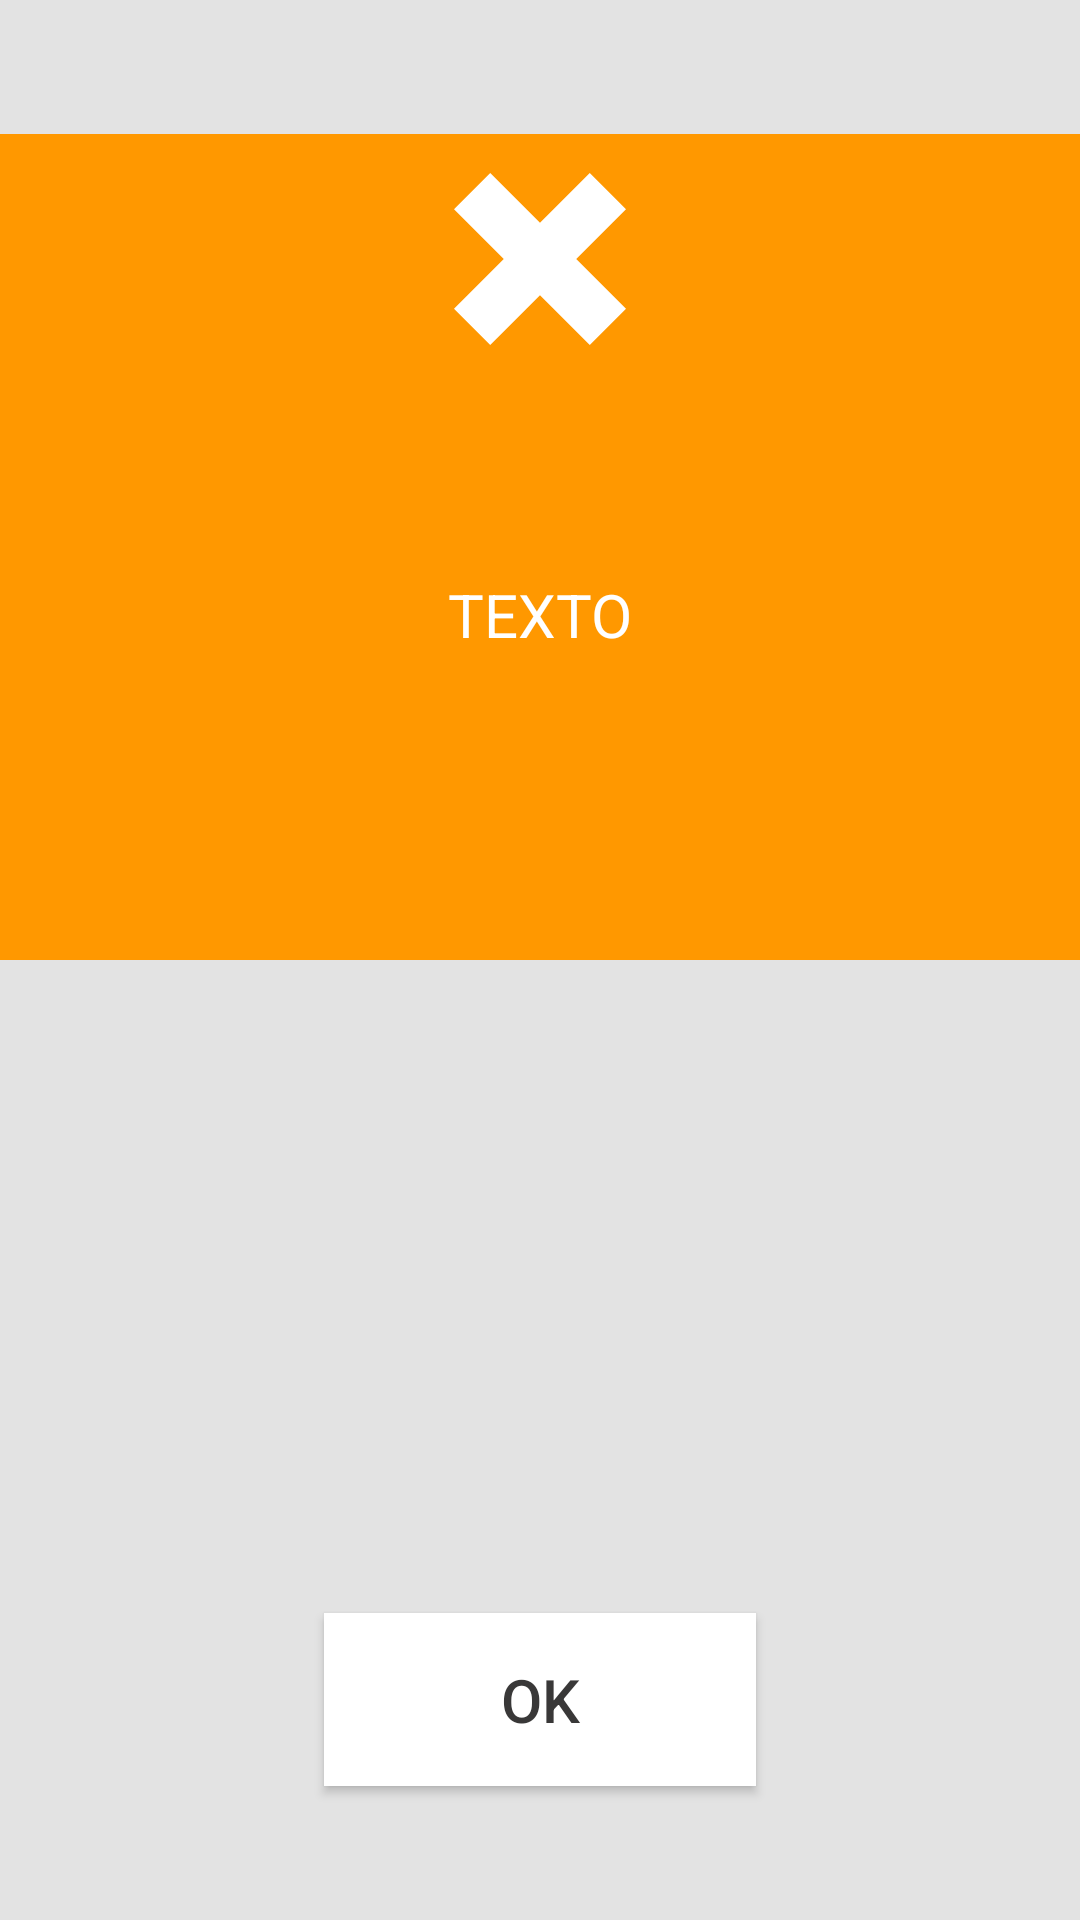

Point at icon controls on the screen. Image size 1080 × 1920, points as [x,y].
cross: [540,259]
